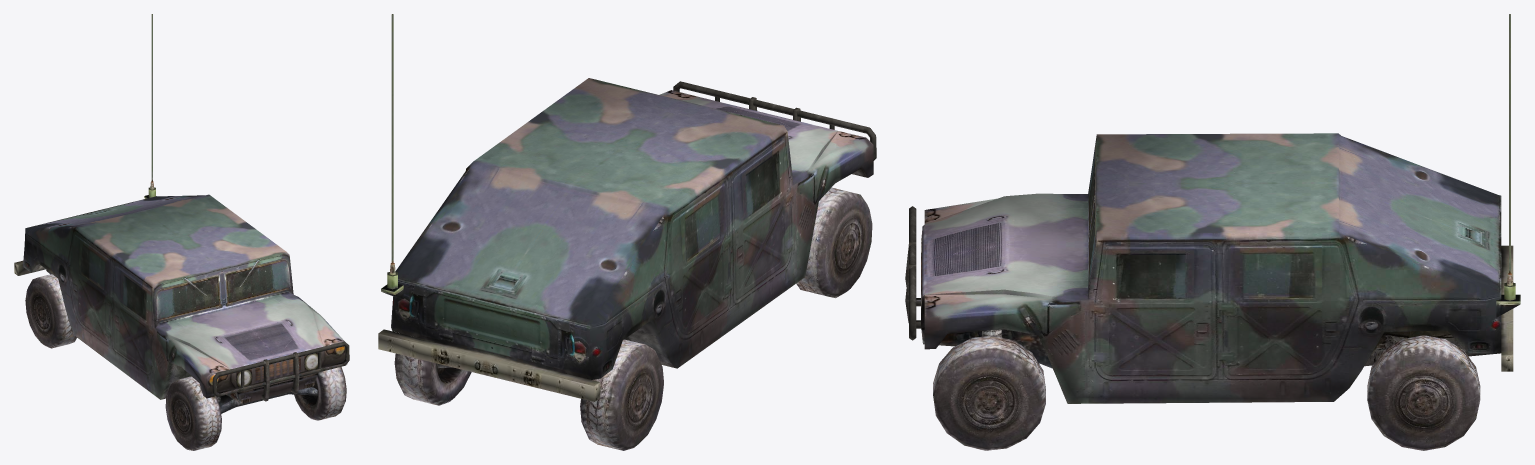
The model's file is military_vehicle.glb.
The picture shows the model from 3 angles, left to right: view 1: azimuth 30°, elevation 25°; view 2: azimuth 150°, elevation 25°; view 3: azimuth 270°, elevation 25°; orthographic projection. The views are drawn at different scales.
Visible parts, largest first — view 1: Military_Vehicle (1), FR_Wheel, BR_Wheel, FL_Wheel, F_Suspension; view 2: Military_Vehicle (1), BR_Wheel, FR_Wheel, BL_Wheel; view 3: Military_Vehicle (1), BL_Wheel, FL_Wheel.
Boxes of the visible parts, x1,y1,x2,y2 form: Military_Vehicle (1): (14, 14, 349, 403); FR_Wheel: (165, 376, 221, 450); BR_Wheel: (25, 274, 76, 348); FL_Wheel: (294, 366, 346, 420); F_Suspension: (217, 386, 317, 413); Military_Vehicle (1): (378, 14, 876, 401); BR_Wheel: (580, 339, 663, 450); FR_Wheel: (796, 187, 872, 298); BL_Wheel: (394, 353, 471, 405); Military_Vehicle (1): (905, 14, 1520, 403); BL_Wheel: (1367, 335, 1480, 450); FL_Wheel: (933, 335, 1045, 450).
Bounding box in the file's own units: 1.47 × 2.64 × 3.41.
1 material, 1 textured.
